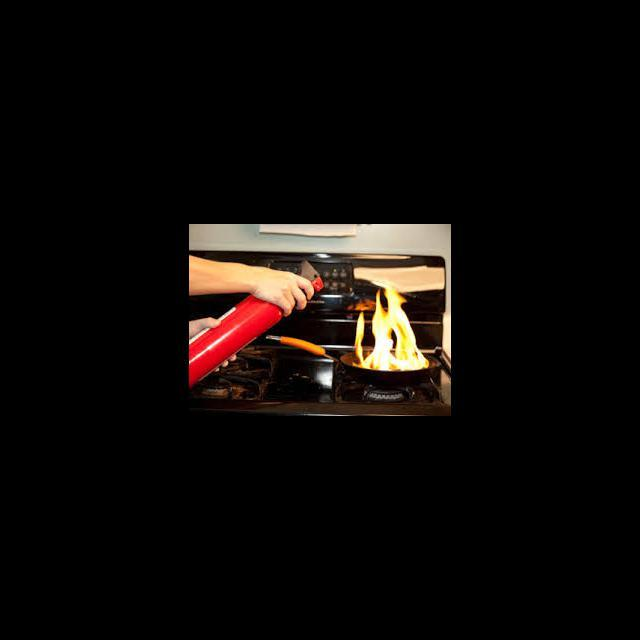Fire: (348, 280, 432, 373)
